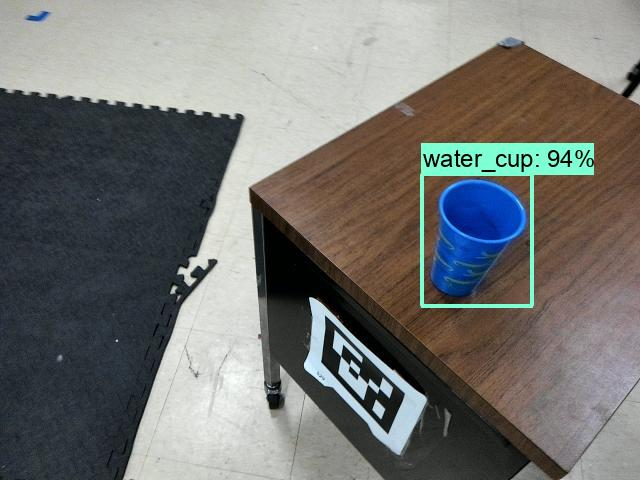water_cup: (425, 171, 534, 308)
